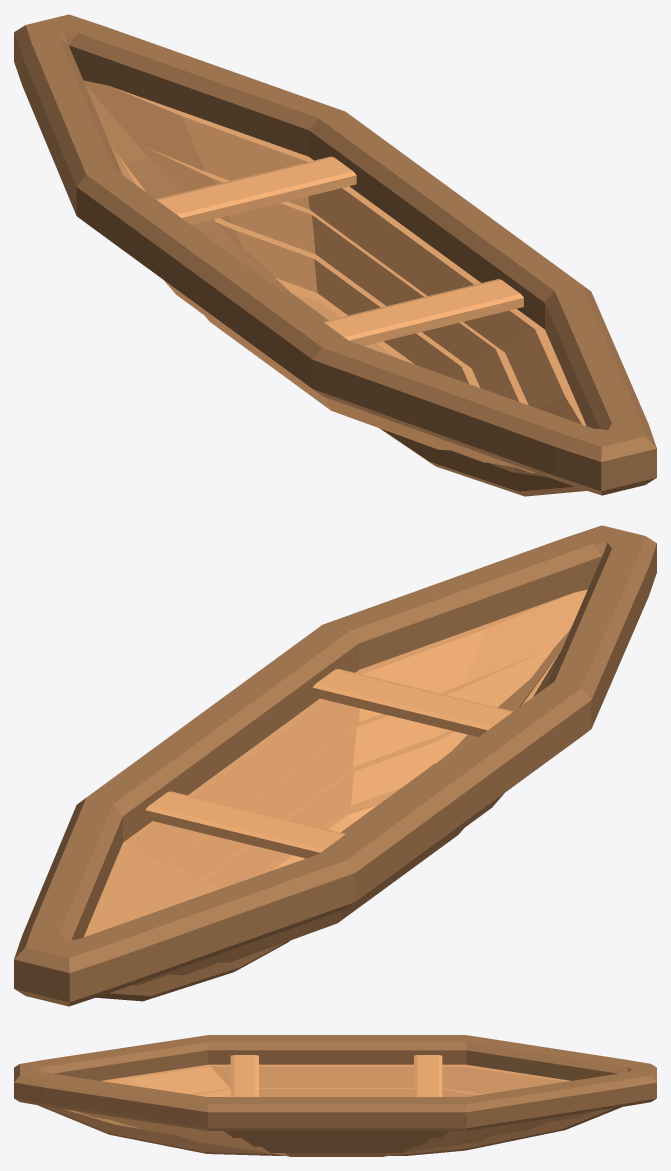
The model's file is boat.fbx.
The picture shows the model from 3 angles, top to bottom: view 1: azimuth 30°, elevation 25°; view 2: azimuth 150°, elevation 25°; view 3: azimuth 270°, elevation 25°; orthographic projection. The views are drawn at different scales.
Visible parts, largest first — view 1: Cube; view 2: Cube; view 3: Cube.
Part boxes in pixels (x1,y1,x2,y2): Cube: (14, 14, 656, 496); Cube: (14, 525, 656, 1006); Cube: (14, 1035, 656, 1156).
Size of the model in its own units: 300 by 153 by 1095.
